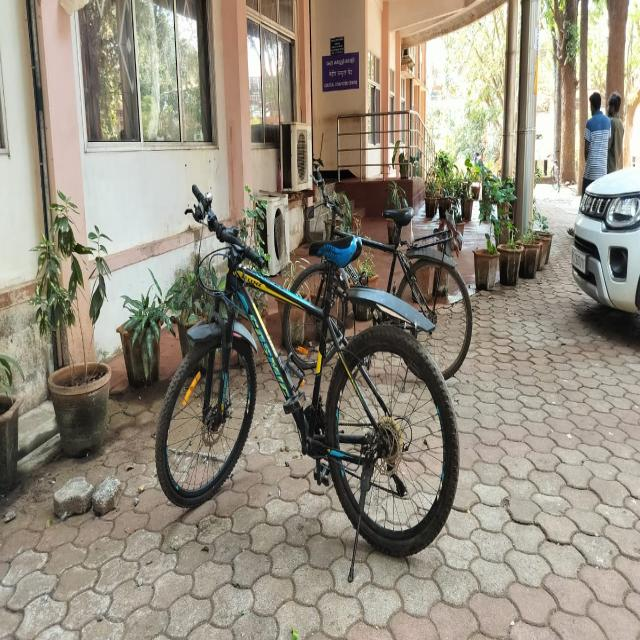bicycle ahead at: (148, 173, 468, 598), (284, 153, 475, 390)
car ahead at: (572, 162, 640, 326)
plant ahead at: (24, 187, 120, 456), (114, 277, 166, 388), (493, 185, 528, 293)
stones ahead at: (51, 471, 120, 520)
